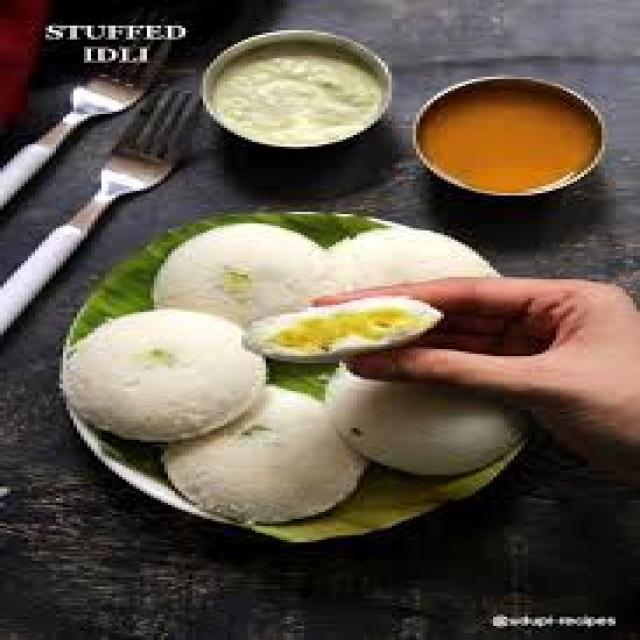Wet Waste: (59, 307, 270, 440), (185, 382, 343, 514), (214, 37, 388, 140), (164, 224, 318, 335)
